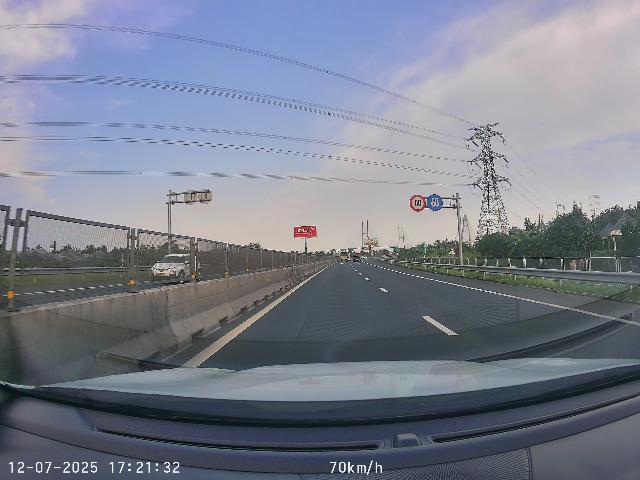127-toc-do-toi-da-80: (409, 194, 426, 212)
306-toc-do-toi-thieu-60: (427, 194, 443, 211)
